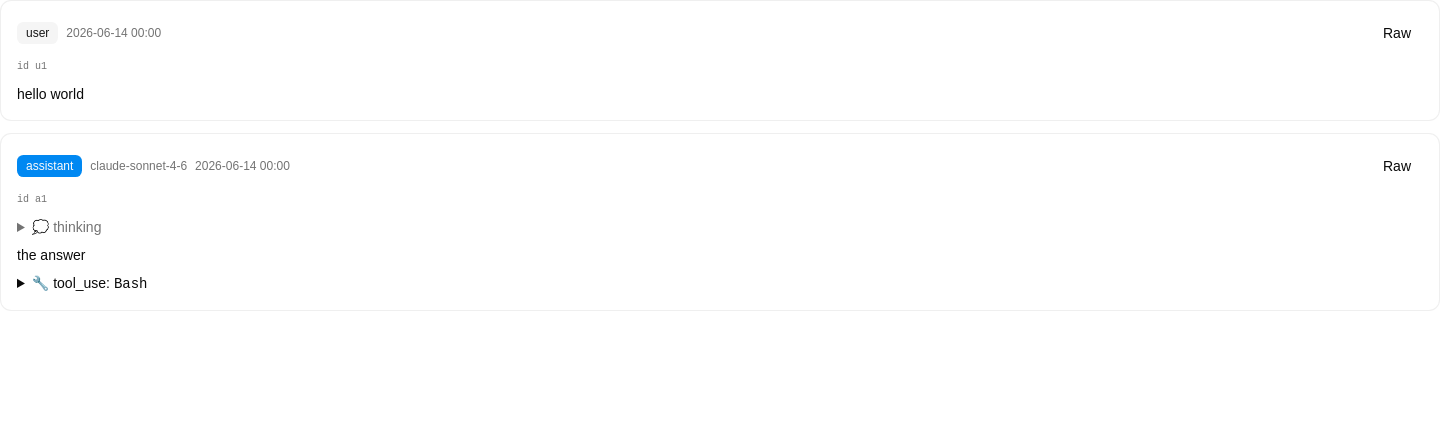
Test case: MessageTimeline › toggles raw view showing a json tree with toolbar
Check: the field with placeholder "搜索 JSON…" is not shown
Click the button "Raw" in the row of "user". click: x=1397, y=33
box: [1371,17,1423,49]
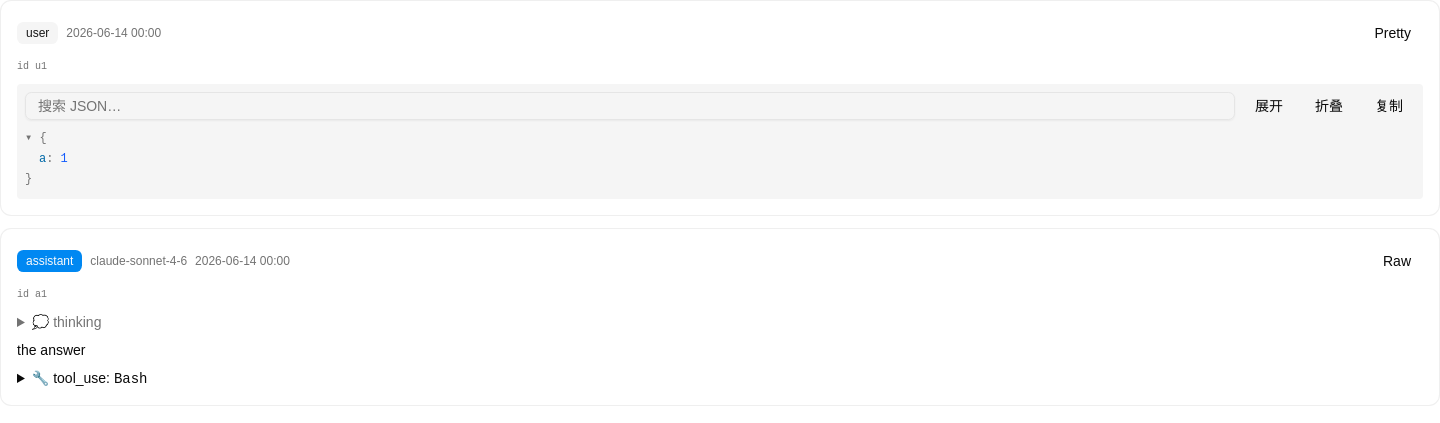
Check: the field with placeholder "搜索 JSON…" is shown, box [25,92,1235,120]
Check: the text "1" is shown, box [61,152,68,166]
